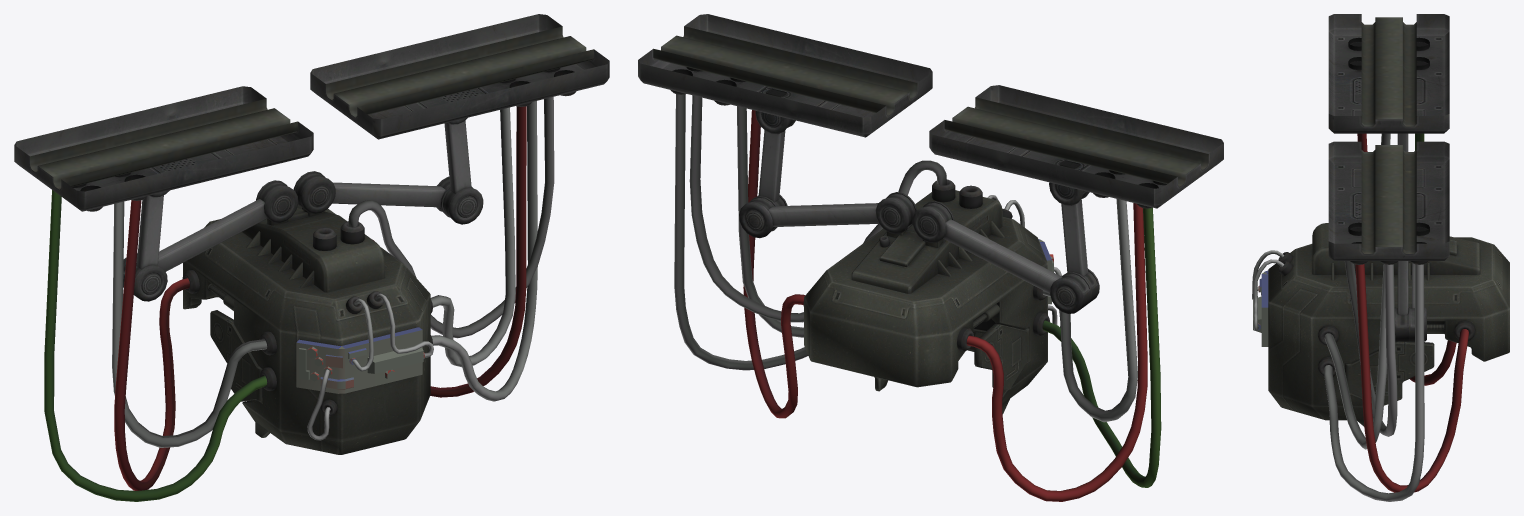
File: 00_04_scan_helmet.dae
3 renders of one model, left to right at view 1: azimuth 30°, elevation 25°; view 2: azimuth 150°, elevation 25°; view 3: azimuth 270°, elevation 25°, orthographic. The views are drawn at different scales.
Visible parts, largest first — view 1: helmet, circuitboard; view 2: helmet; view 3: helmet, circuitboard.
Boxes of the visible parts, <box> form: helmet: <box>14,14,609,501</box>; circuitboard: <box>296,327,424,393</box>; helmet: <box>638,14,1223,501</box>; helmet: <box>1252,14,1509,501</box>; circuitboard: <box>1253,270,1268,346</box>.
Bounding box in the file's own units: 2.25 × 1.45 × 1.07.
